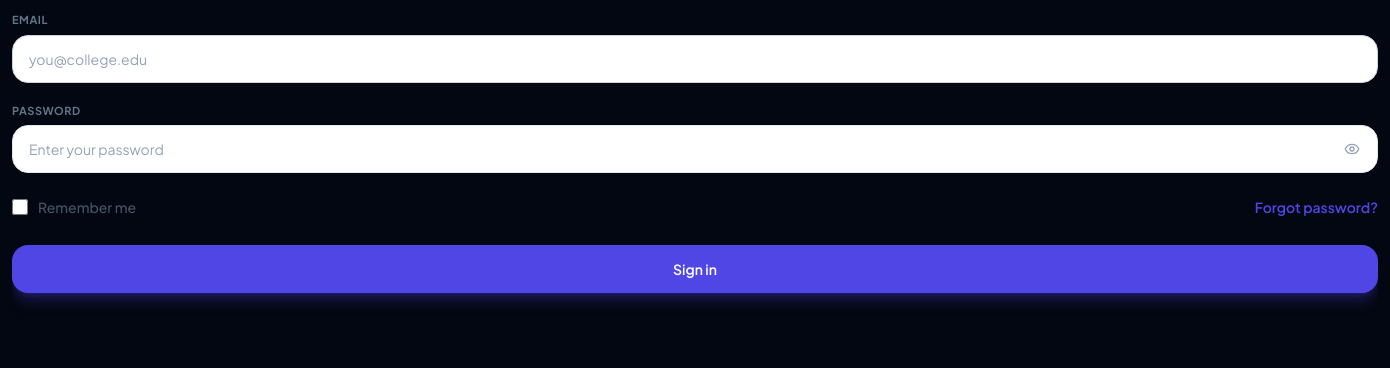
Test case: LoginForm › displays client-side validation errors when submitted empty
The width and height of the screenshot is (1390, 368).
Click the button "Sign in". click: (695, 269)
box: [12, 245, 1378, 293]
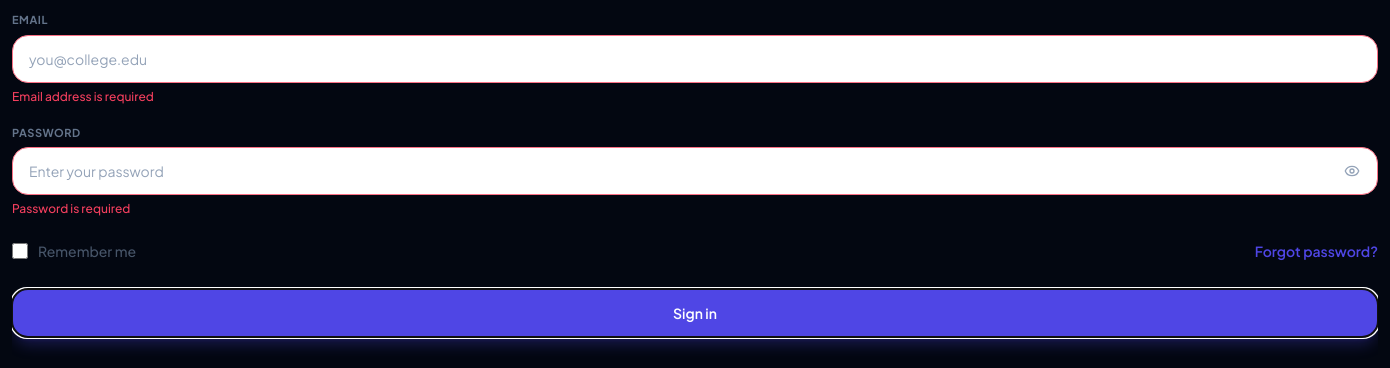
Now the text "Email address is required" is shown, box [12, 88, 154, 104]
Now the text "Password is required" is shown, box [12, 201, 130, 216]
